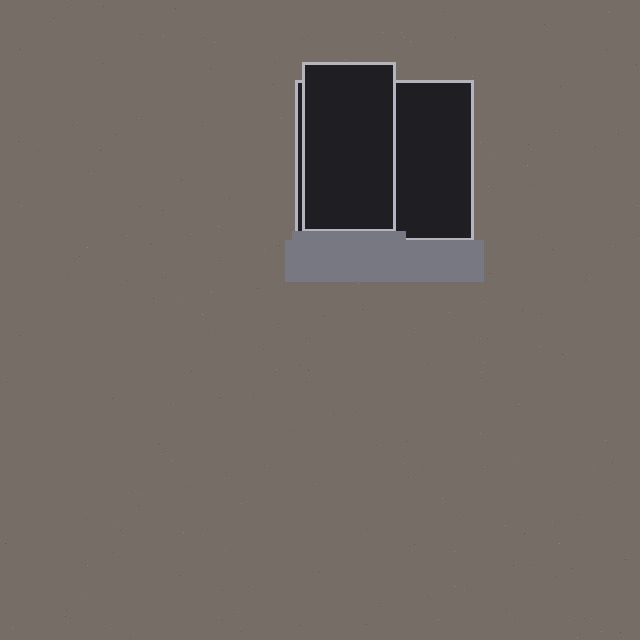laptop: (295, 80, 473, 281), (302, 62, 395, 274)
